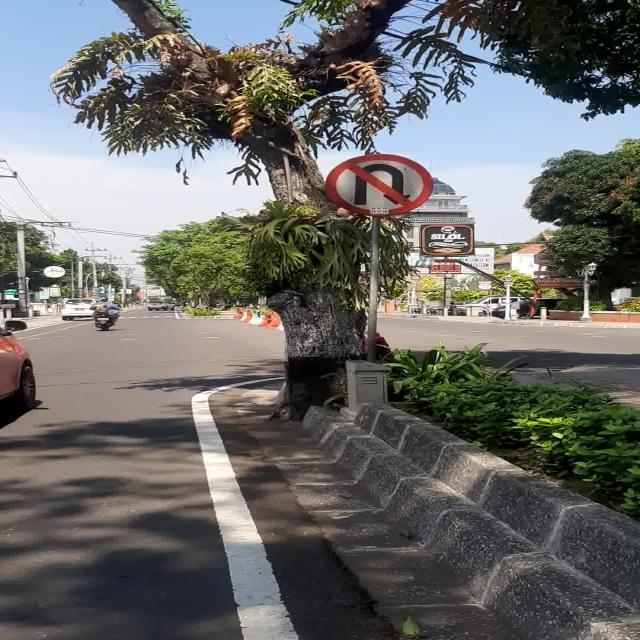Dilarang Putar Balik: (326, 154, 434, 215)
